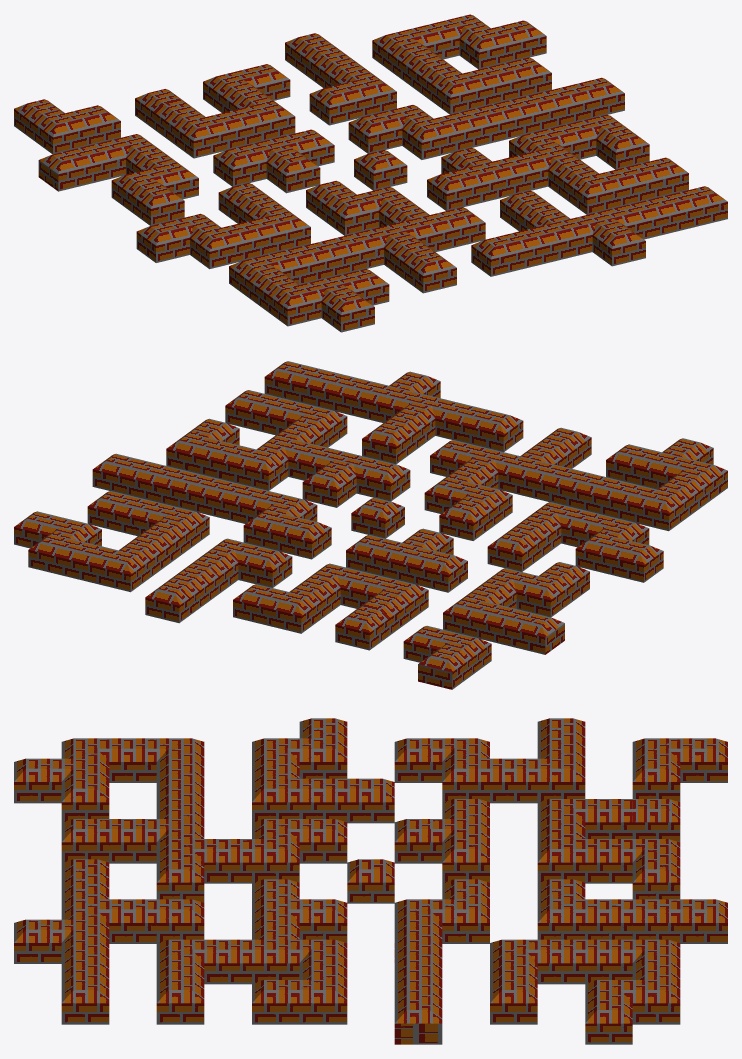
Rendered from MuroLab.obj.
The picture shows the model from 3 angles, top to bottom: view 1: azimuth 30°, elevation 25°; view 2: azimuth 150°, elevation 25°; view 3: azimuth 270°, elevation 25°; orthographic projection. The views are drawn at different scales.
Visible parts, largest first — view 1: Muros; view 2: Muros; view 3: Muros.
Boxes of the visible parts, left/top/right/bottom form: Muros: left=14, top=14, right=727, bottom=332; Muros: left=14, top=361, right=727, bottom=689; Muros: left=14, top=718, right=727, bottom=1044.
Bounding box in the file's own units: 0.9583 × 0.0438 × 0.9583.
1 material, 1 textured.
